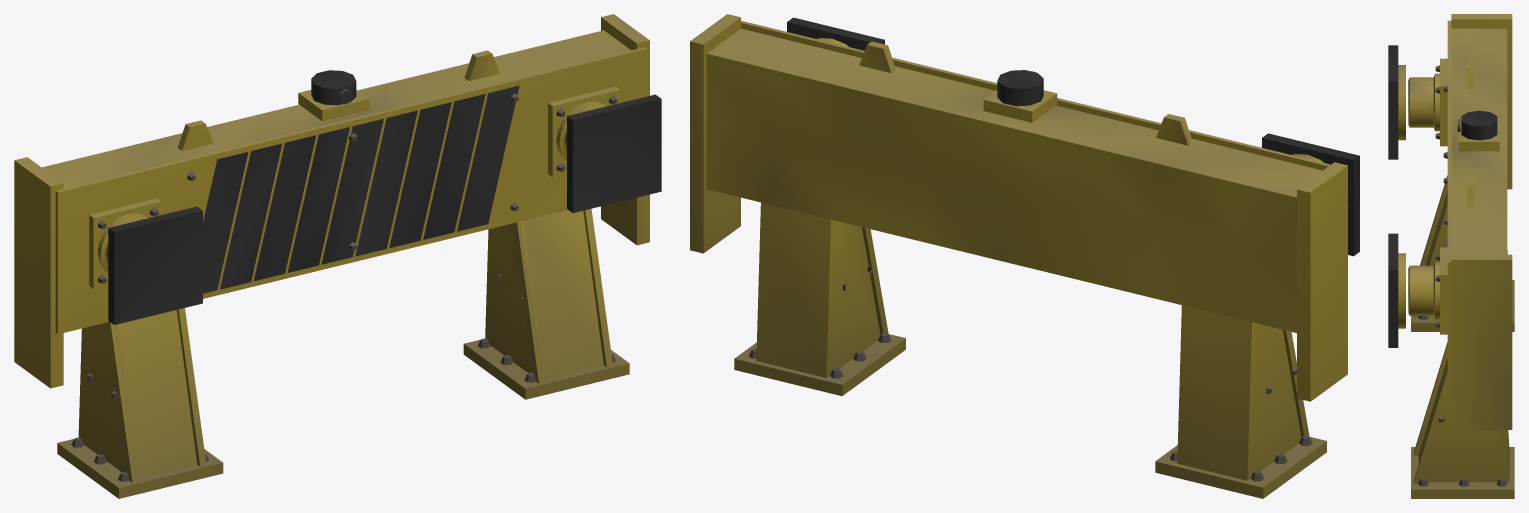
Rendered from buffer_stop.glb.
3 renders of one model, left to right at view 1: azimuth 30°, elevation 25°; view 2: azimuth 150°, elevation 25°; view 3: azimuth 270°, elevation 25°, orthographic. The views are drawn at different scales.
Visible parts, largest first — view 1: buffer_stop; view 2: buffer_stop; view 3: buffer_stop.
Boxes of the visible parts, x1,y1,x2,y2 form: buffer_stop: [14, 14, 661, 498]; buffer_stop: [690, 14, 1359, 498]; buffer_stop: [1388, 14, 1514, 498].
Size of the model in its own units: 2.3 by 1.2 by 0.5.
